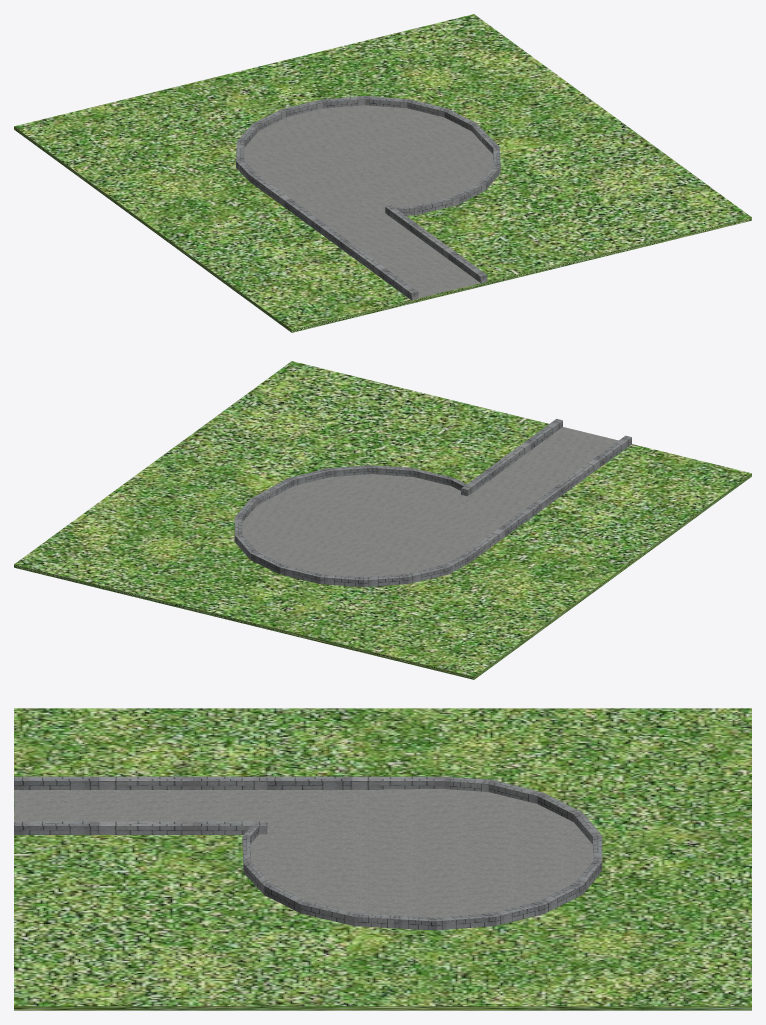
File: EscenarioLigero.obj
3 views of the same model, one above another, from view 1: azimuth 30°, elevation 25°; view 2: azimuth 150°, elevation 25°; view 3: azimuth 270°, elevation 25° (orthographic). The views are drawn at different scales.
Visible parts, largest first — view 1: Cube_Cube.001, Cylinder002, Plane002, Acera001.002, Acera001.001, Cylinder001, Acera001.003; view 2: Cube_Cube.001, Cylinder002, Plane002, Cylinder001, Acera001.001, Acera001.002, Acera001.003; view 3: Cube_Cube.001, Cylinder002, Plane002, Acera001.002, Acera001.001, Acera001.003, Cylinder001, Acera001.013_Acera001.015, Acera001.016_Acera001.018, Acera001.012_Acera001.014, Acera001.006_Acera001.008, Acera001.011_Acera001.013 (+5 smaller).
Part boxes in pixels (x1,y1,x2,y2): Cube_Cube.001: (14, 14, 751, 332); Cylinder002: (244, 105, 486, 208); Plane002: (300, 205, 480, 297); Acera001.002: (316, 222, 418, 300); Acera001.001: (385, 205, 487, 283); Cylinder001: (290, 143, 493, 215); Acera001.003: (249, 173, 322, 230); Cube_Cube.001: (14, 361, 751, 679); Cylinder002: (242, 479, 484, 577); Plane002: (470, 427, 618, 531); Cylinder001: (282, 474, 493, 538); Acera001.001: (461, 419, 562, 496); Acera001.002: (531, 435, 631, 513); Acera001.003: (463, 505, 536, 562); Cube_Cube.001: (14, 708, 751, 1010); Cylinder002: (271, 789, 593, 917); Plane002: (14, 790, 376, 824); Acera001.002: (14, 776, 267, 789); Acera001.001: (14, 821, 267, 834); Acera001.003: (266, 776, 445, 789); Cylinder001: (250, 789, 410, 903); Acera001.013_Acera001.015: (432, 913, 495, 930); Acera001.016_Acera001.018: (301, 901, 354, 925); Acera001.012_Acera001.014: (489, 902, 544, 925); Acera001.006_Acera001.008: (488, 779, 543, 803); Acera001.011_Acera001.013: (537, 883, 583, 913).
Bounding box in the file's own units: 140 × 2.93 × 146.
3 materials, 3 textured.
